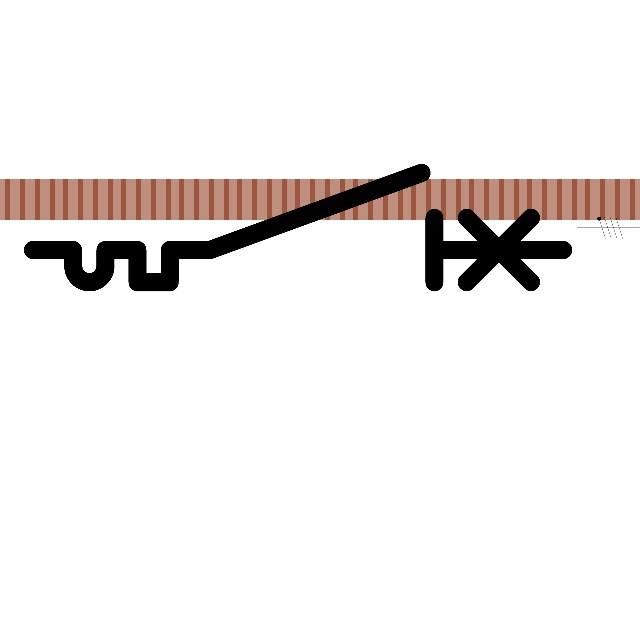interruptor_termomagnetico: (19, 159, 577, 296)
